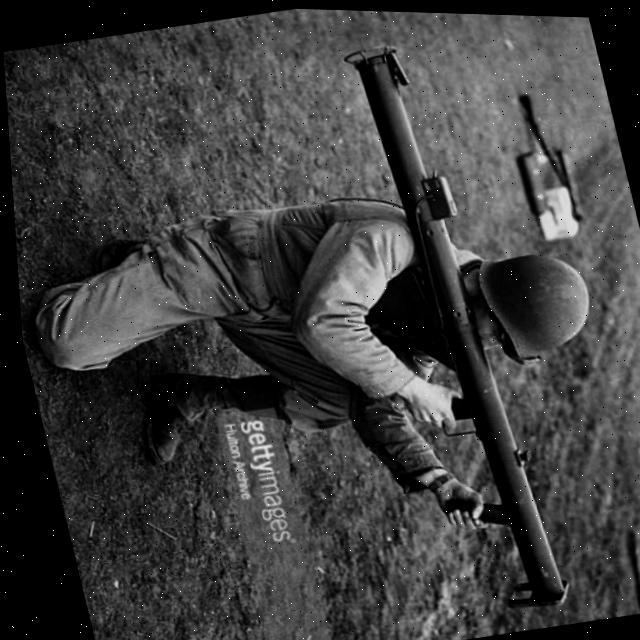rocket: (344, 30, 571, 615)
